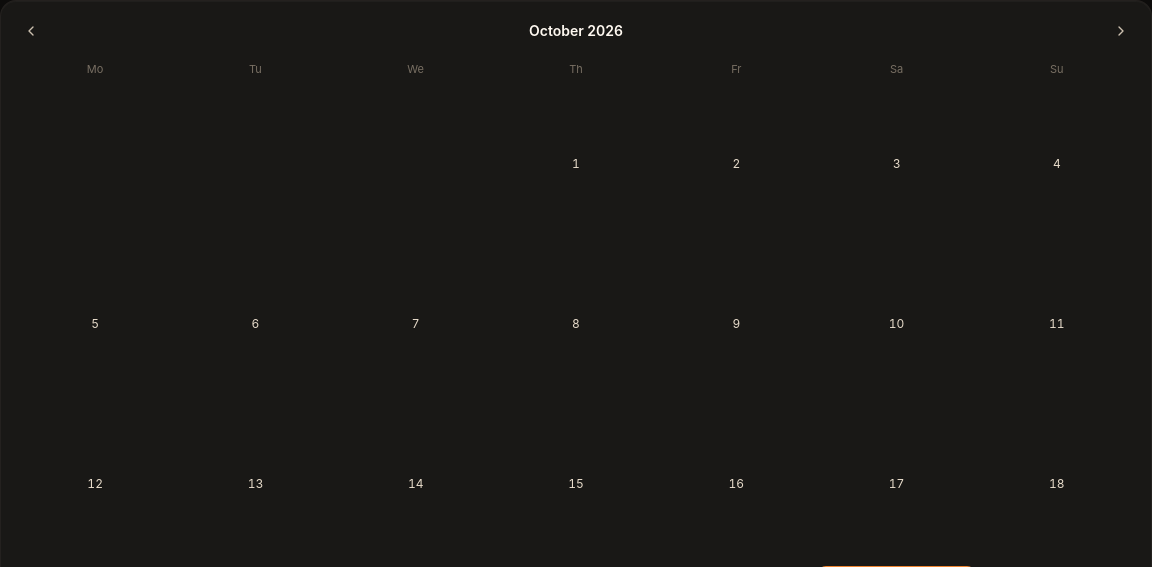
Scenario: MonthCalendar › navigates between months and reflects the selected day
Click the button named "Next month".
click(1121, 31)  # box 1107,17 -> 1135,45
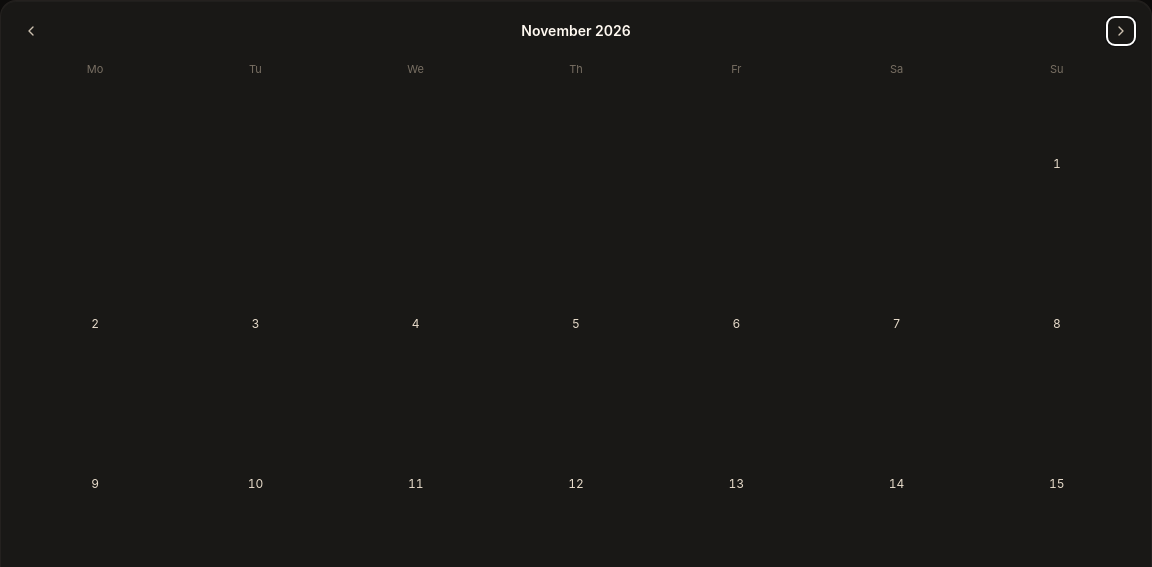
Check: the heading "November 2026" is shown, box 521,21 -> 631,41
Click the button named "Previous month".
click(31, 31)  # box 17,17 -> 45,45
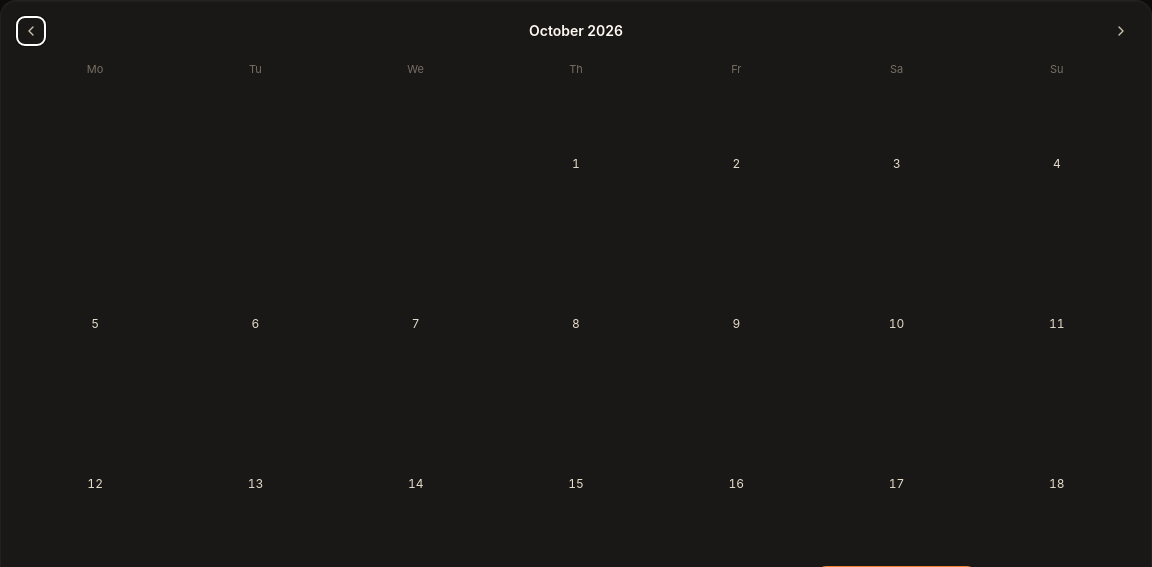
Click the button named "Previous month".
click(31, 31)  # box 17,17 -> 45,45
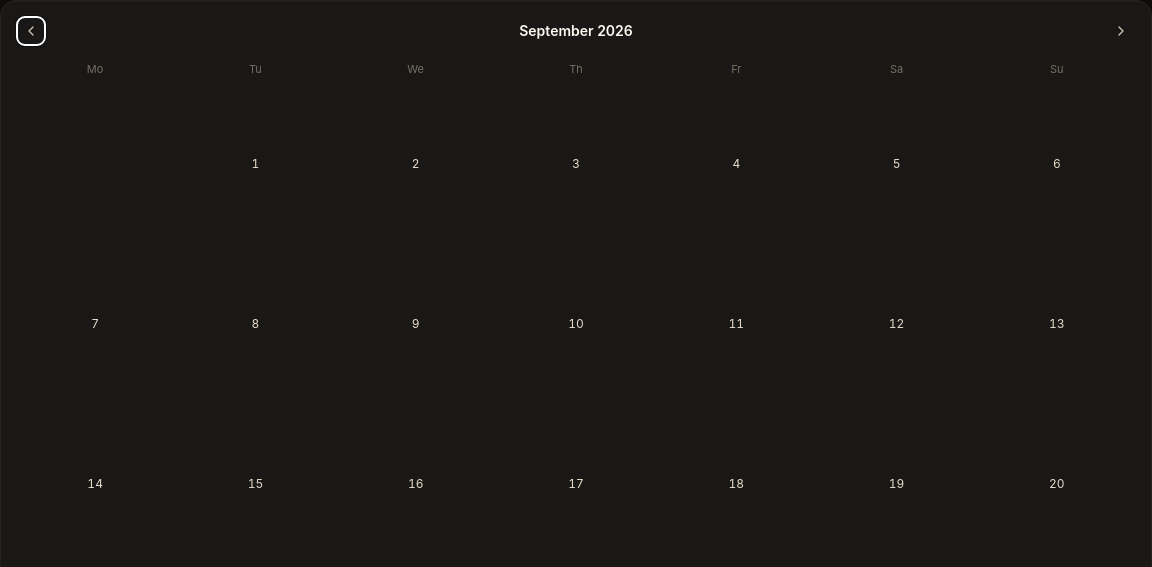
Check: the heading "September 2026" is shown, box 519,21 -> 633,41
